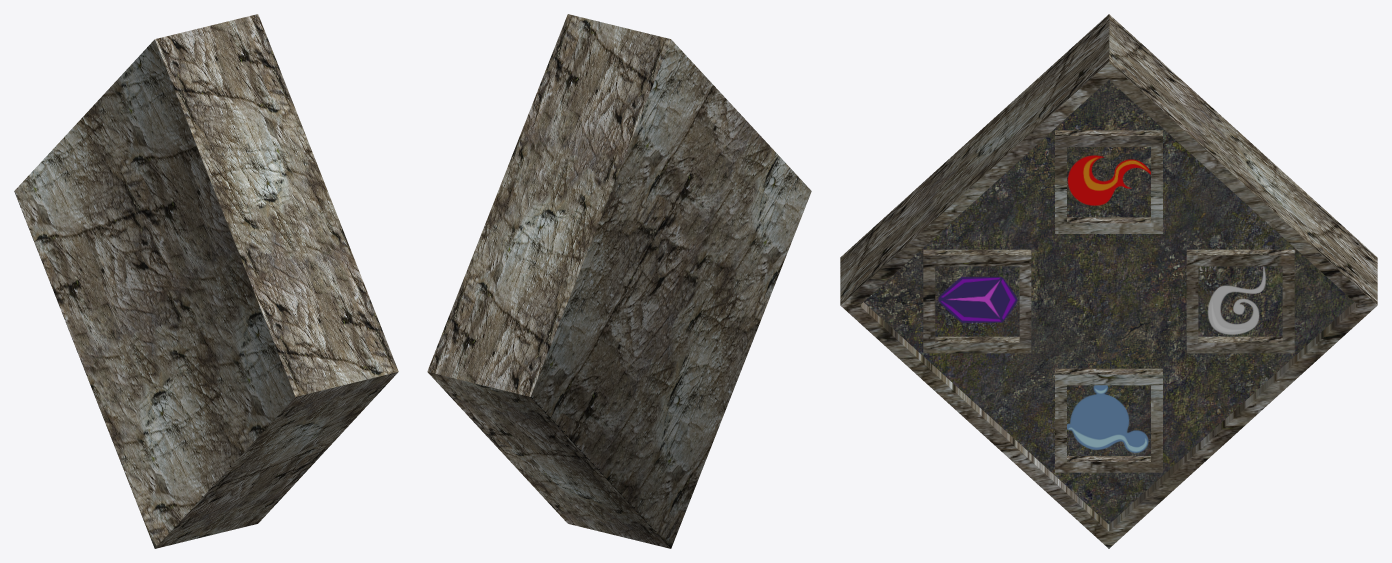
The model's file is Telekinect_Emblem.FBX.
3 views of the same model, side by side, from view 1: azimuth 30°, elevation 25°; view 2: azimuth 150°, elevation 25°; view 3: azimuth 270°, elevation 25° (orthographic). The views are drawn at different scales.
Parts seen in each view (by area): view 1: Telekinect_Emblem; view 2: Telekinect_Emblem; view 3: Telekinect_Emblem.
Boxes of the visible parts, bbox=[...] form: Telekinect_Emblem: bbox=[14, 14, 398, 548]; Telekinect_Emblem: bbox=[427, 14, 811, 548]; Telekinect_Emblem: bbox=[840, 14, 1377, 548].
Size of the model in its own units: 32.47 by 153 by 153.
